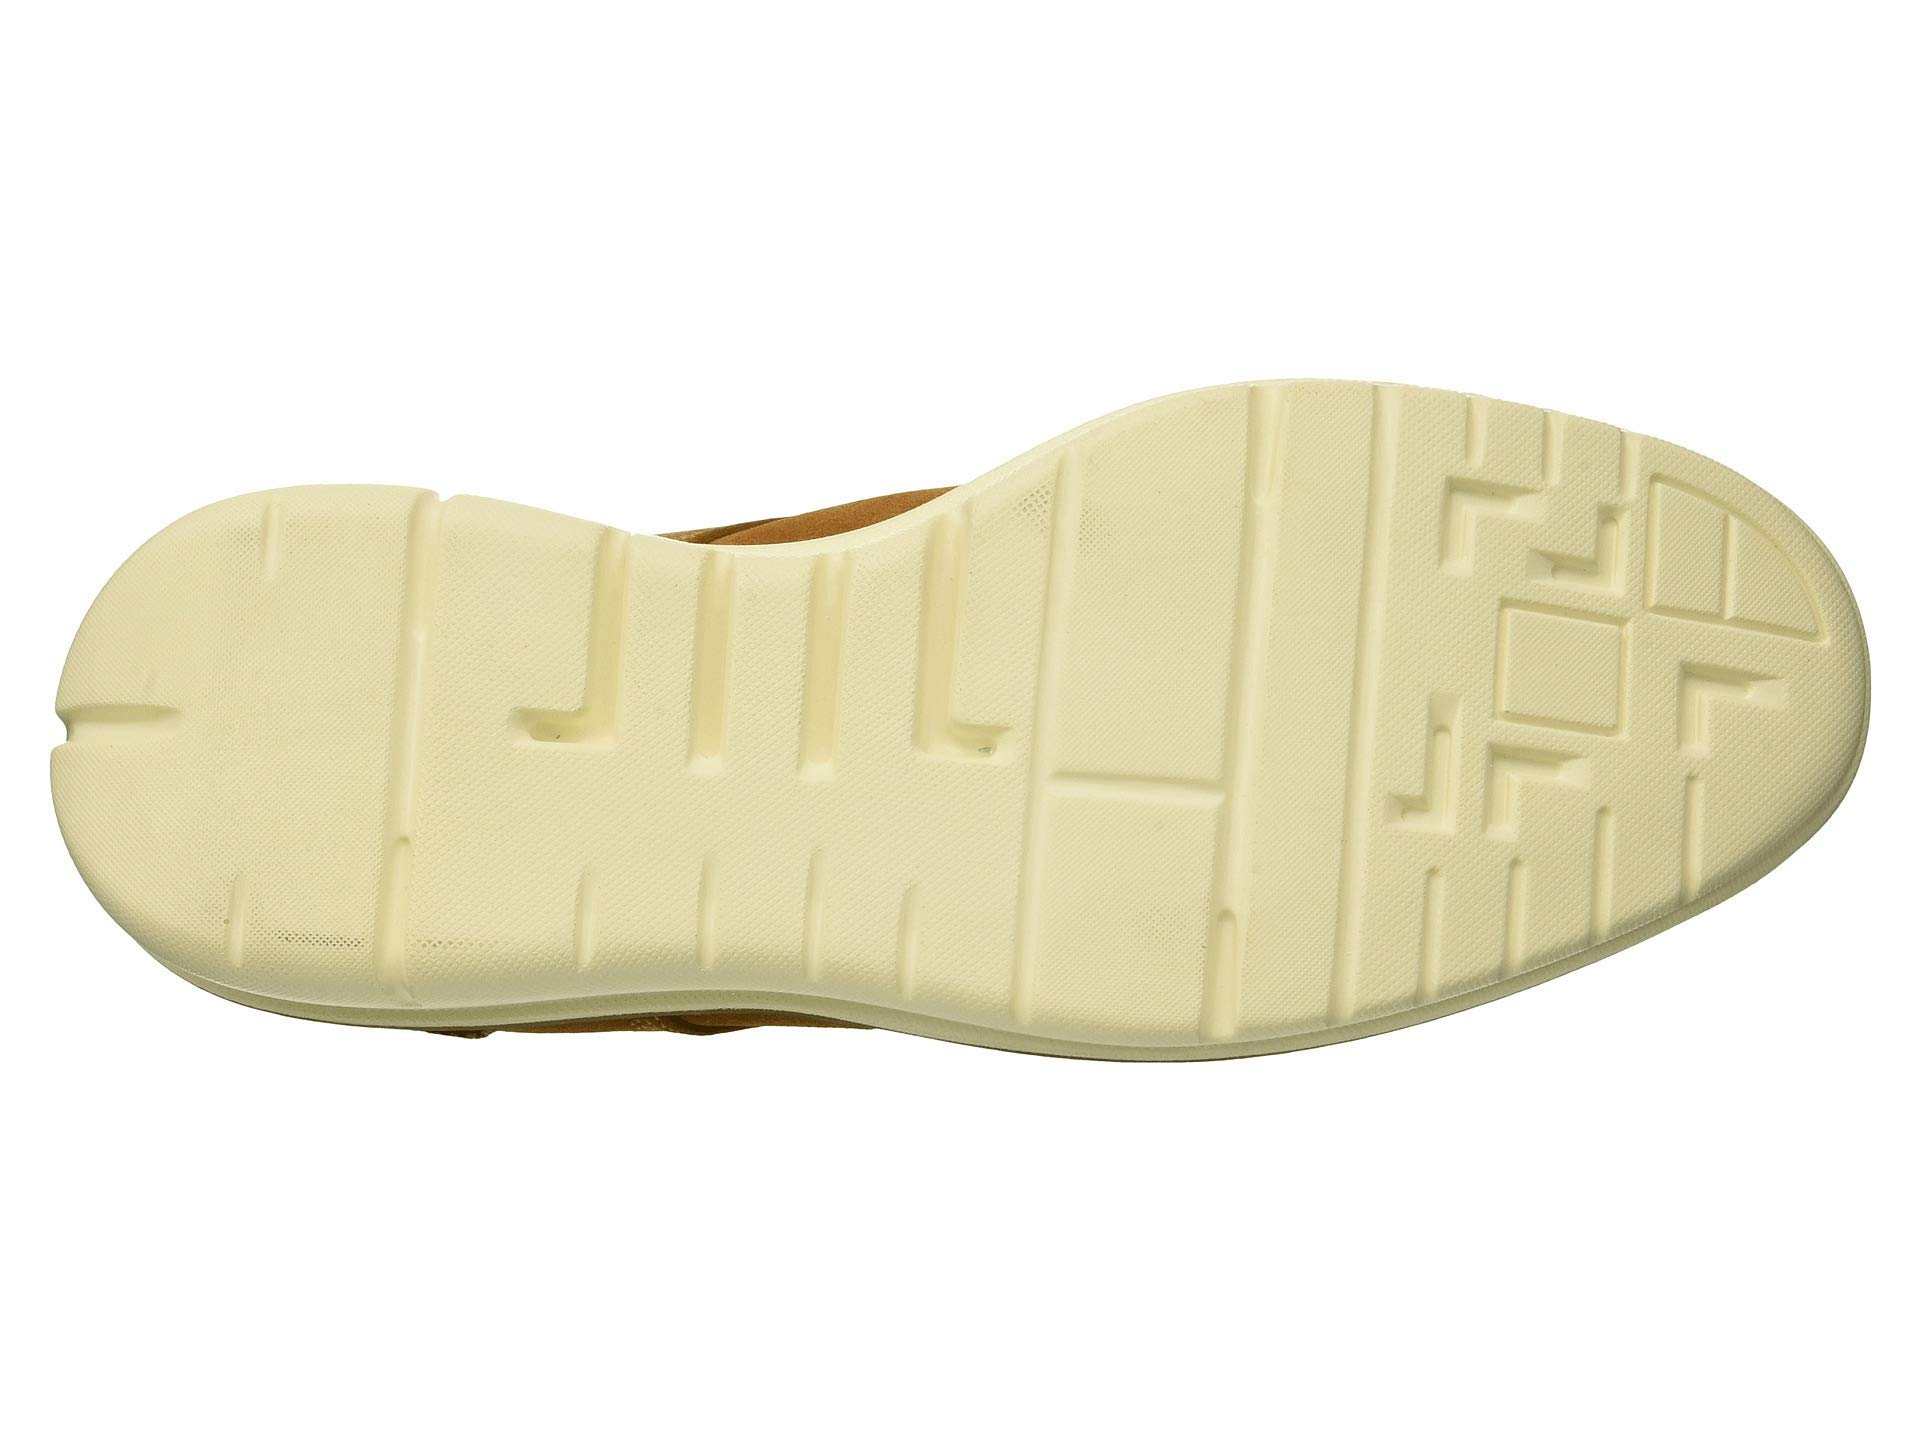line: (1004, 504, 1414, 905)
quad: (1469, 576, 1657, 777)
